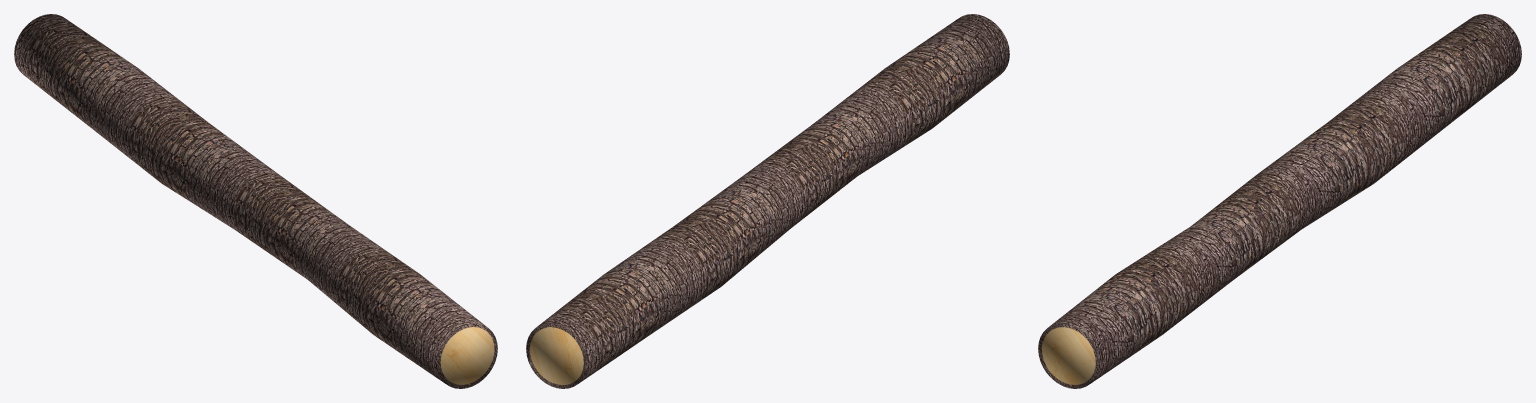
The model's file is woodenbeam.fbx.
3 renders of one model, left to right at view 1: azimuth 30°, elevation 25°; view 2: azimuth 150°, elevation 25°; view 3: azimuth 330°, elevation 25°, orthographic.
Visible parts, largest first — view 1: Cylinder; view 2: Cylinder; view 3: Cylinder.
Part boxes in pixels (x1,y1,x2,y2): Cylinder: (14, 14, 497, 388); Cylinder: (526, 14, 1009, 388); Cylinder: (1038, 14, 1521, 388).
Bounding box in the file's own units: 219 × 229 × 2400.
1 material, 1 textured.
